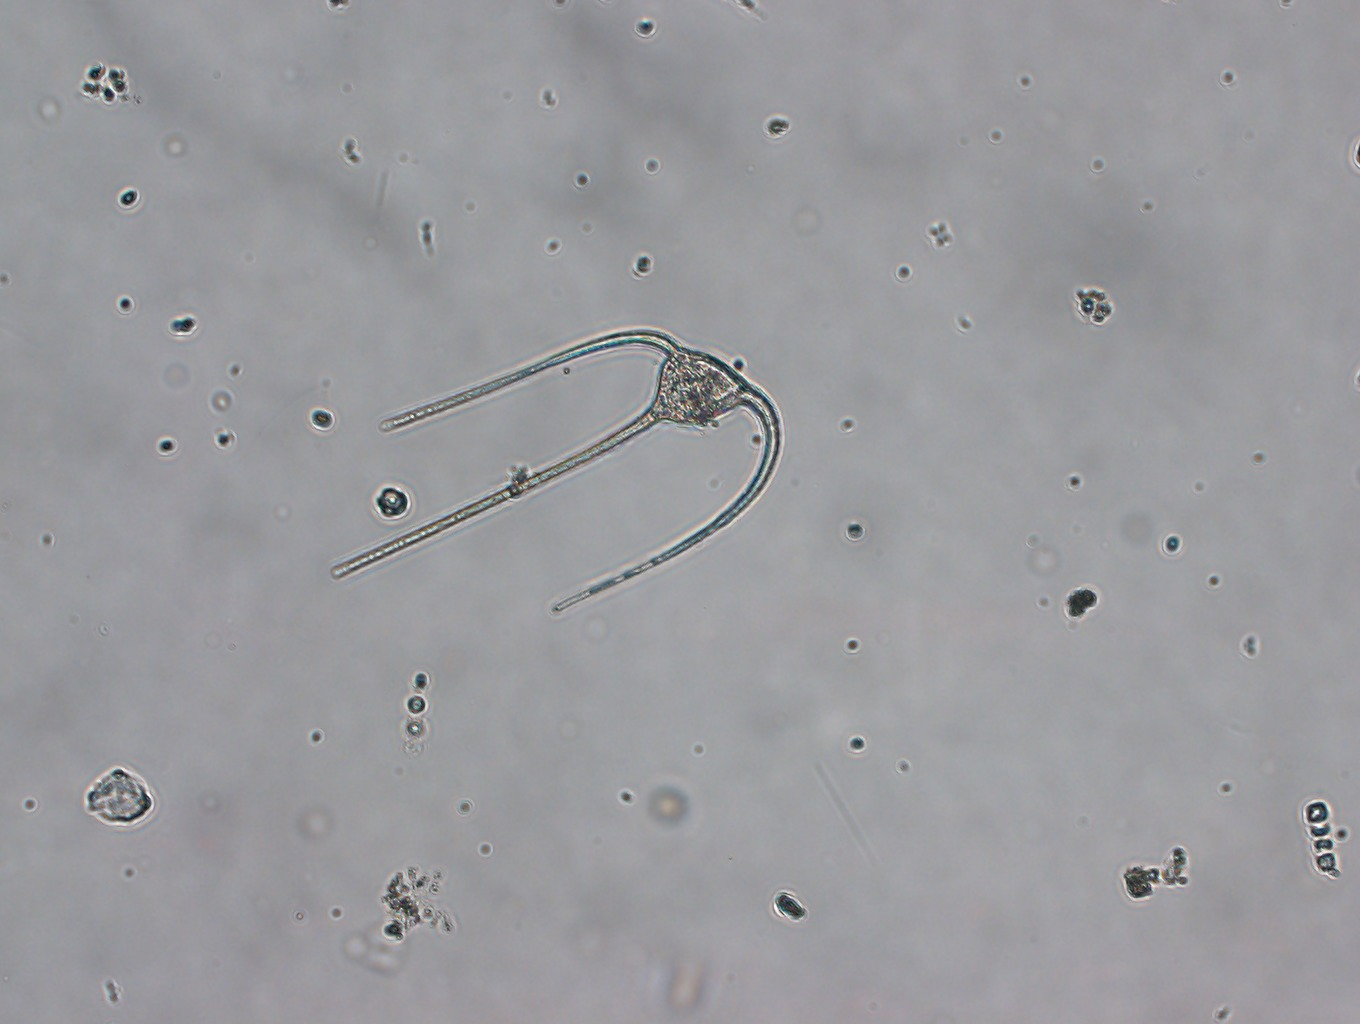ceratium trichoceros: (315, 317, 791, 624)
